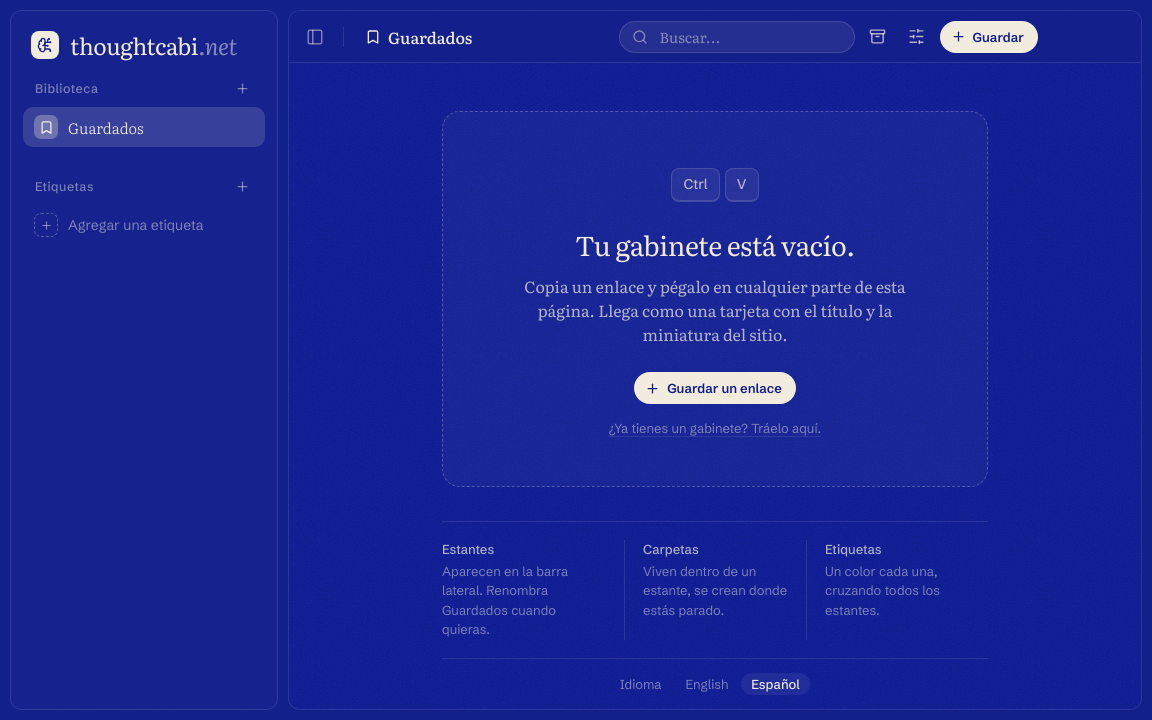
Test case: the app in Spanish › offers the tag suggestions in Spanish when no tag exists yet
Click the button "Guardar un enlace": coordinates (715, 388) [634,372,796,404]
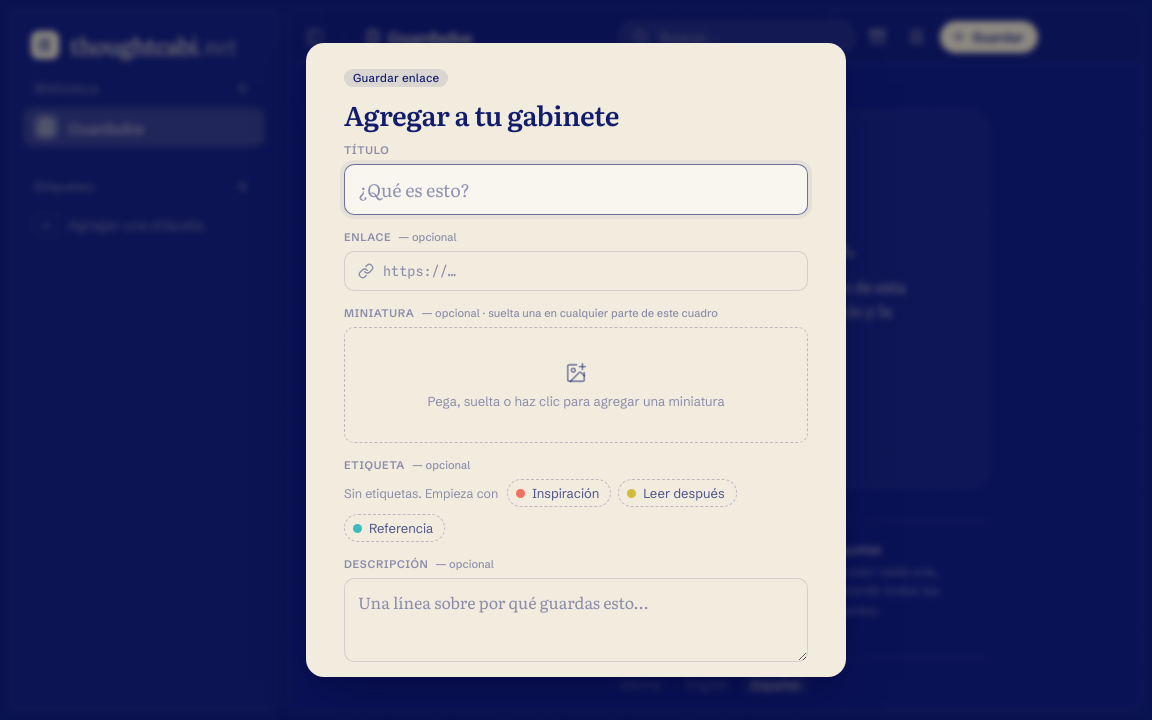
Result: the text "Sin etiquetas. Empieza con" is shown at [344,486,498,501]
Result: the button "Leer después" is shown at [618,479,737,507]
Result: the button "Referencia" is shown at [344,514,445,542]
